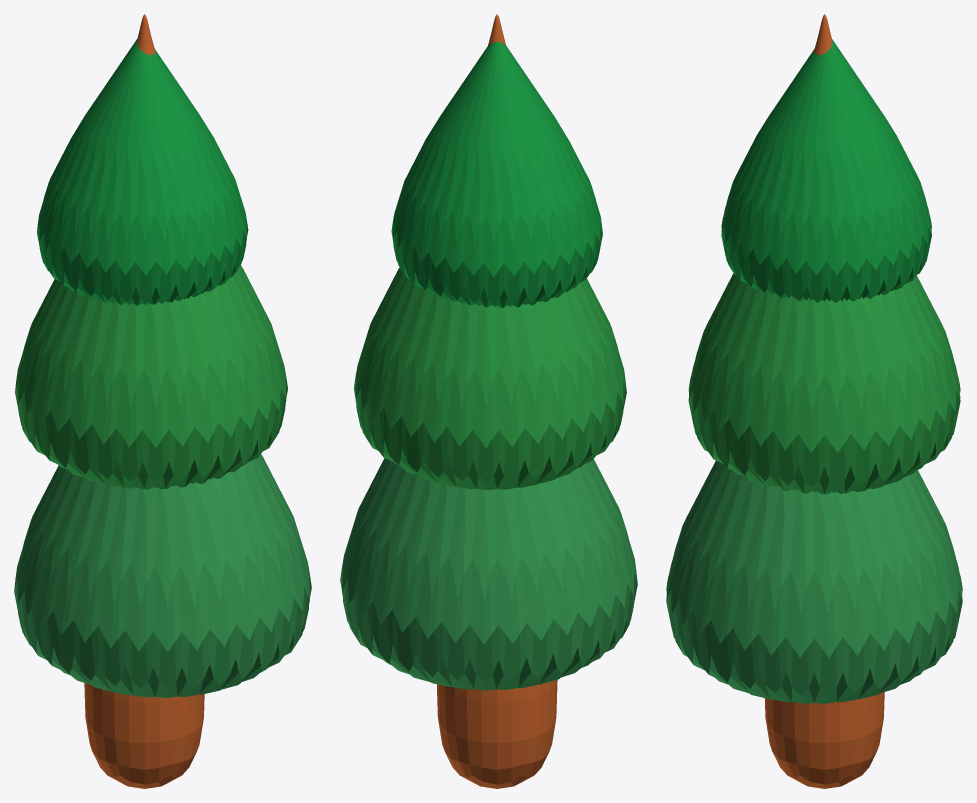
File: treeelka4.fbx
3 views of the same model, side by side, from view 1: azimuth 30°, elevation 25°; view 2: azimuth 150°, elevation 25°; view 3: azimuth 270°, elevation 25° (orthographic).
Parts seen in each view (by area): view 1: Cone; view 2: Cone; view 3: Cone.
Part boxes in pixels (left/top/right/bottom): Cone: left=14, top=14, right=311, bottom=788; Cone: left=340, top=14, right=637, bottom=788; Cone: left=666, top=14, right=962, bottom=788.
Size of the model in its own units: 686 by 1967 by 686.
